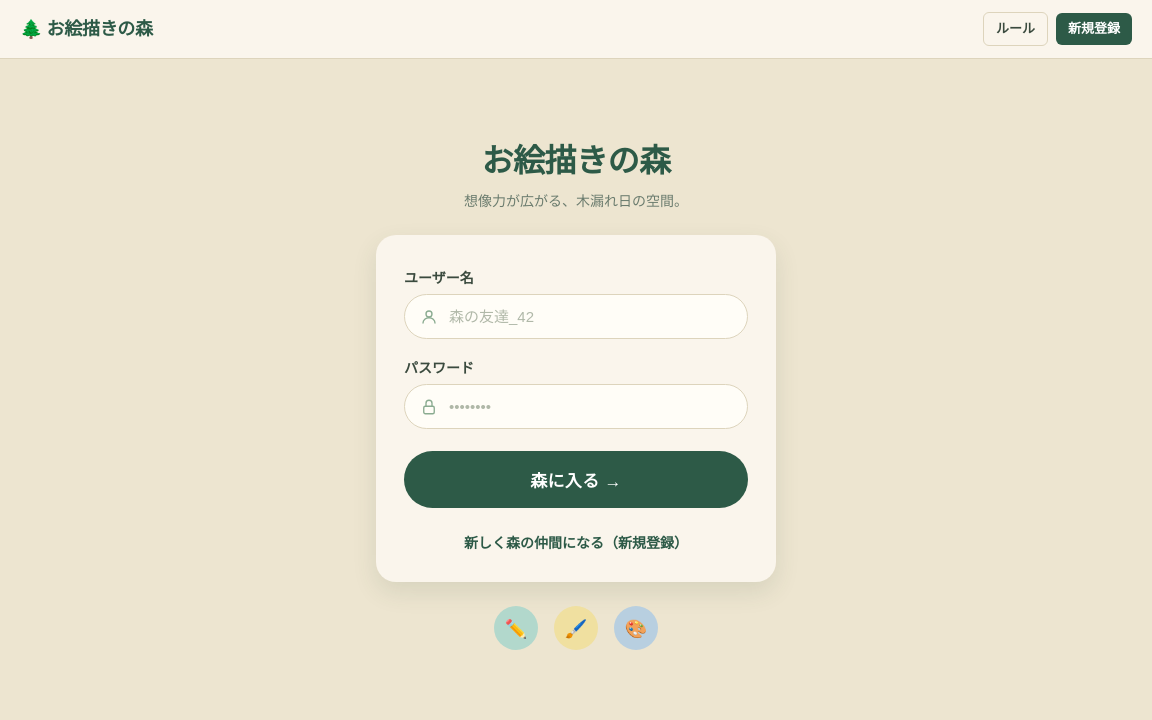
Scenario: Login ページ › API エラー時にエラーメッセージが表示される
Type "testuser" into the field labelled "ユーザー名" at (576, 317), box x1=404 y1=294 x2=748 y2=339
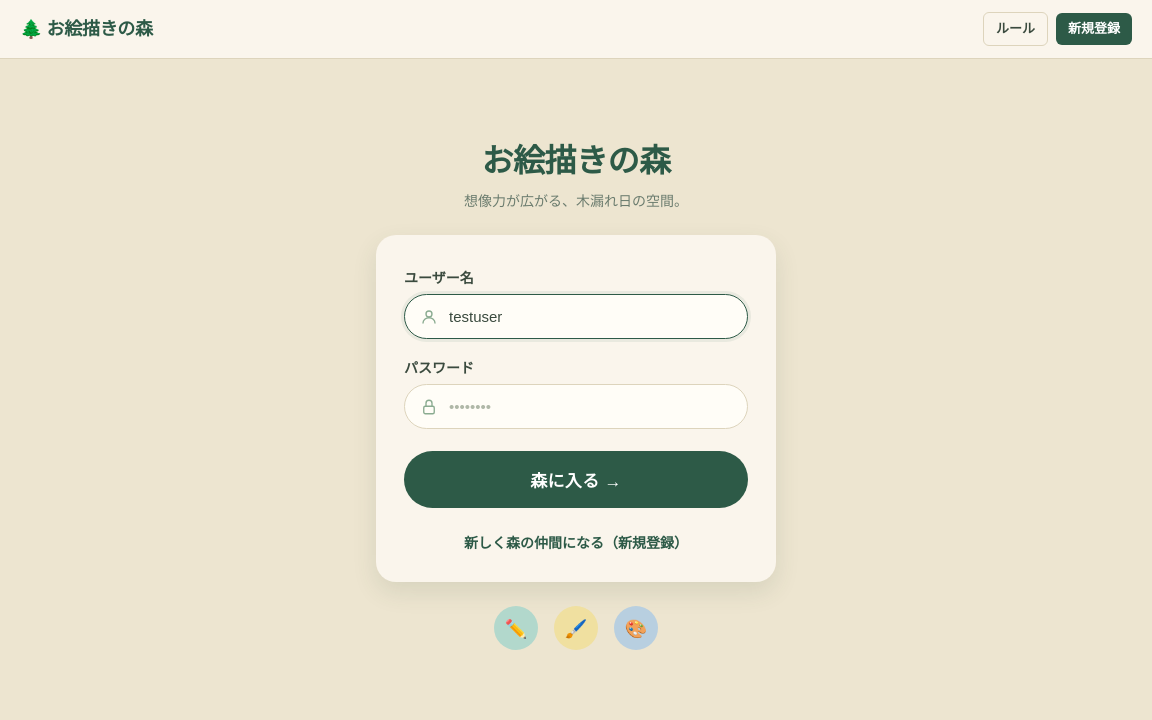
Type "wrongpass" into the password field labelled "パスワード" at (576, 407), box x1=404 y1=384 x2=748 y2=429
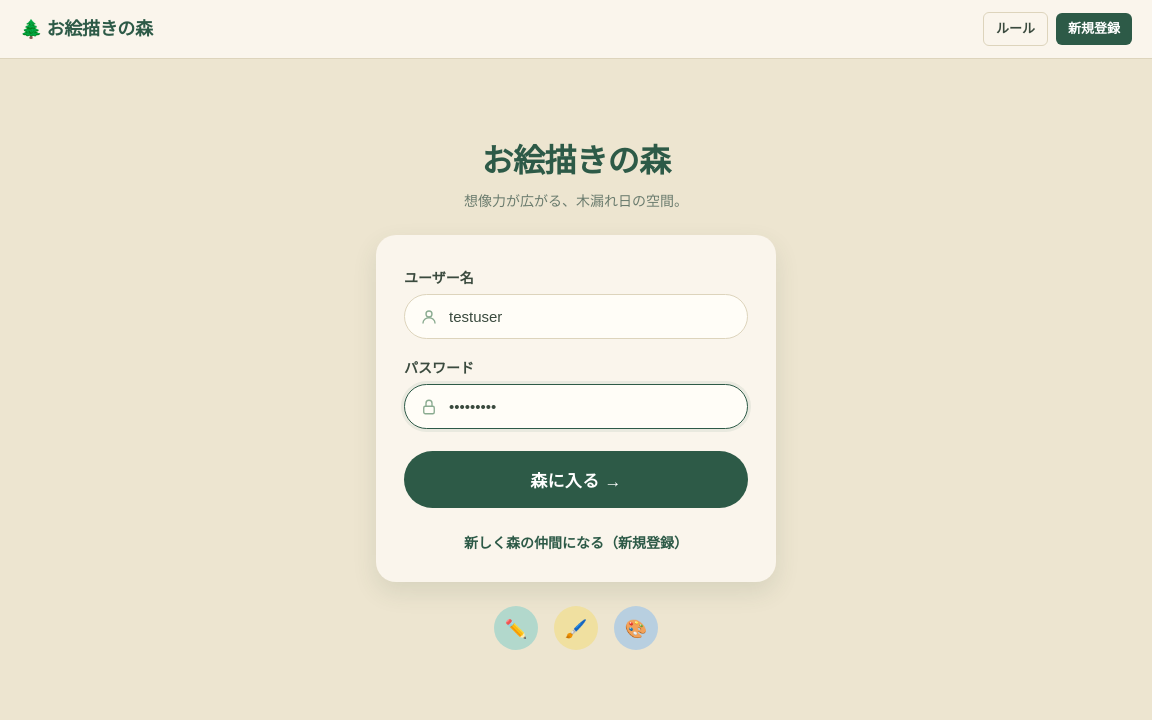
Click the button "森に入る →" at (576, 480), box x1=404 y1=451 x2=748 y2=508
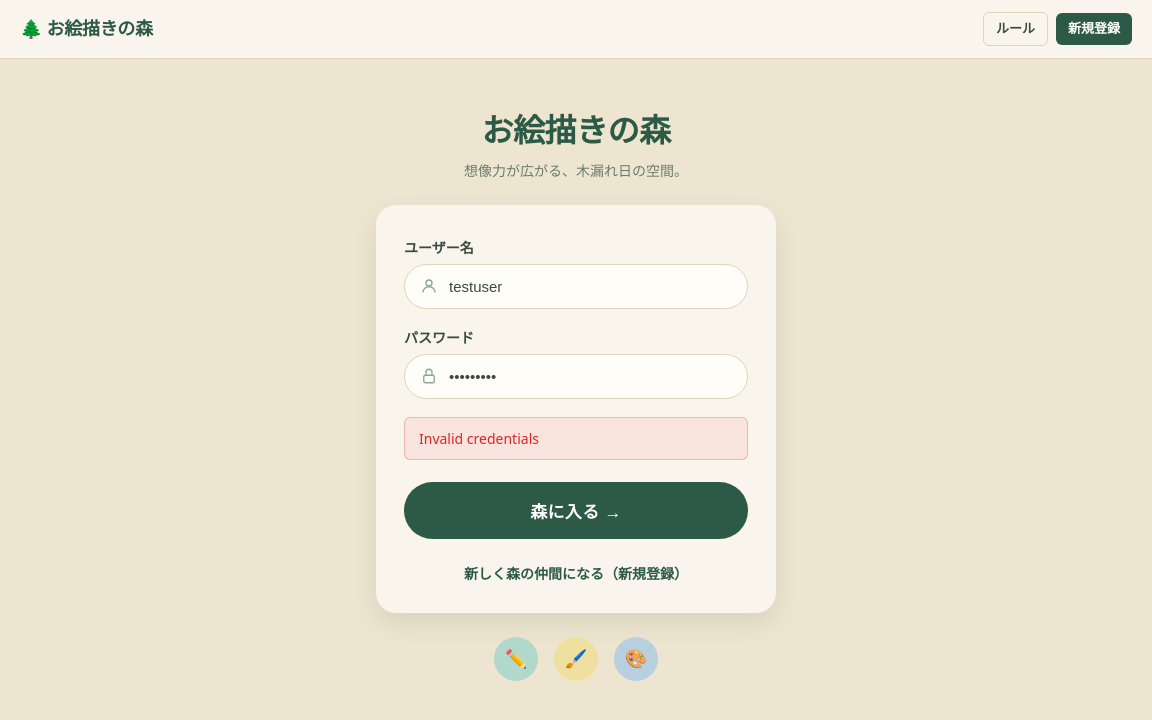
Expected: the message reads "Invalid credentials", x1=419 y1=429 x2=539 y2=448
